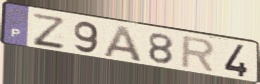4: (222, 43, 250, 79)
8: (147, 32, 176, 66)
9: (73, 20, 101, 55)
A: (101, 25, 145, 64)
R: (179, 35, 218, 75)
Z: (30, 12, 67, 50)
